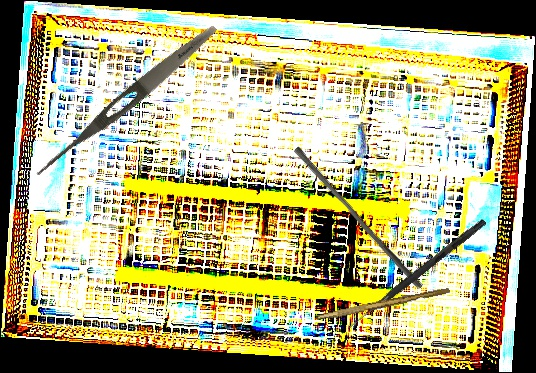Dressing Forceps: (30, 19, 222, 185)
Hook Surgical: (347, 216, 487, 333)
Pusher: (288, 145, 429, 291)
Scalpel Handle: (315, 284, 451, 325)
